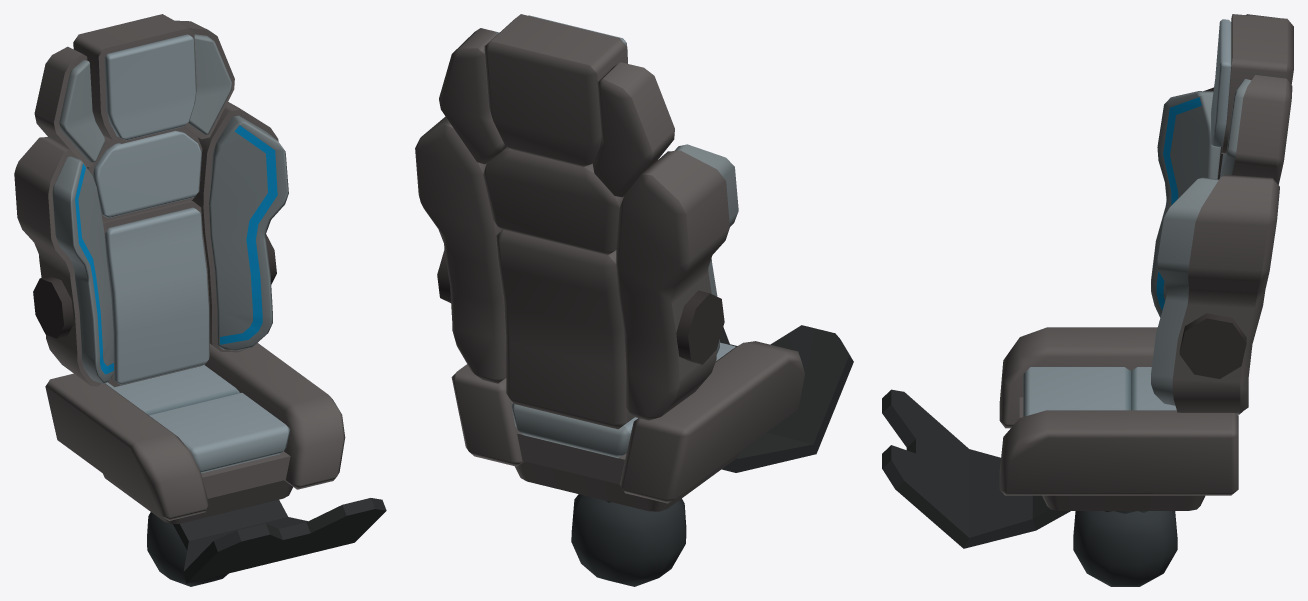
Rendered from Sphere_Vehicle_Seat_001.fbx.
3 renders of one model, left to right at view 1: azimuth 30°, elevation 25°; view 2: azimuth 150°, elevation 25°; view 3: azimuth 270°, elevation 25°, orthographic. The views are drawn at different scales.
Parts seen in each view (by area): view 1: Sphere_Vehicle_Seat_001; view 2: Sphere_Vehicle_Seat_001; view 3: Sphere_Vehicle_Seat_001.
Boxes of the visible parts, x1,y1,x2,y2 form: Sphere_Vehicle_Seat_001: (14,14,386,586); Sphere_Vehicle_Seat_001: (415,14,853,586); Sphere_Vehicle_Seat_001: (882,14,1293,586).
Bounding box in the file's own units: 73.43 × 105 × 154.
